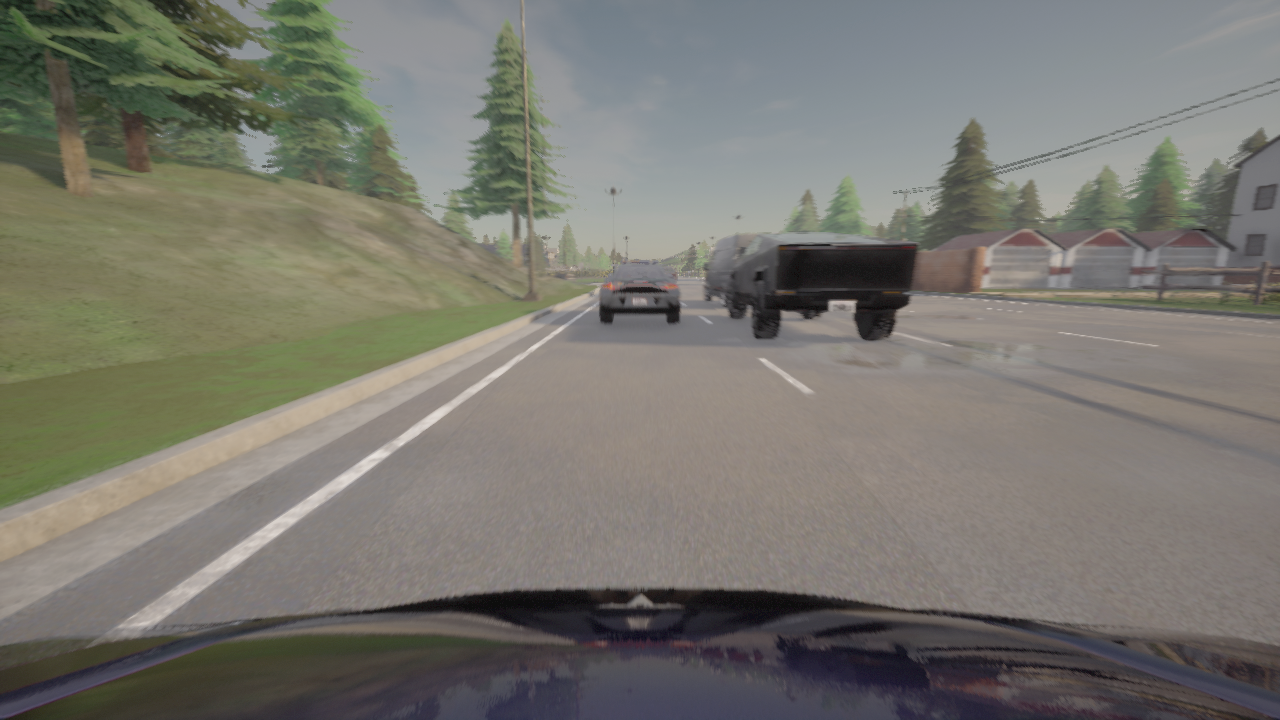cyclist: (0, 588, 1279, 719), (726, 233, 917, 340), (600, 261, 679, 322), (703, 234, 756, 307), (552, 271, 576, 283), (662, 267, 676, 283)
